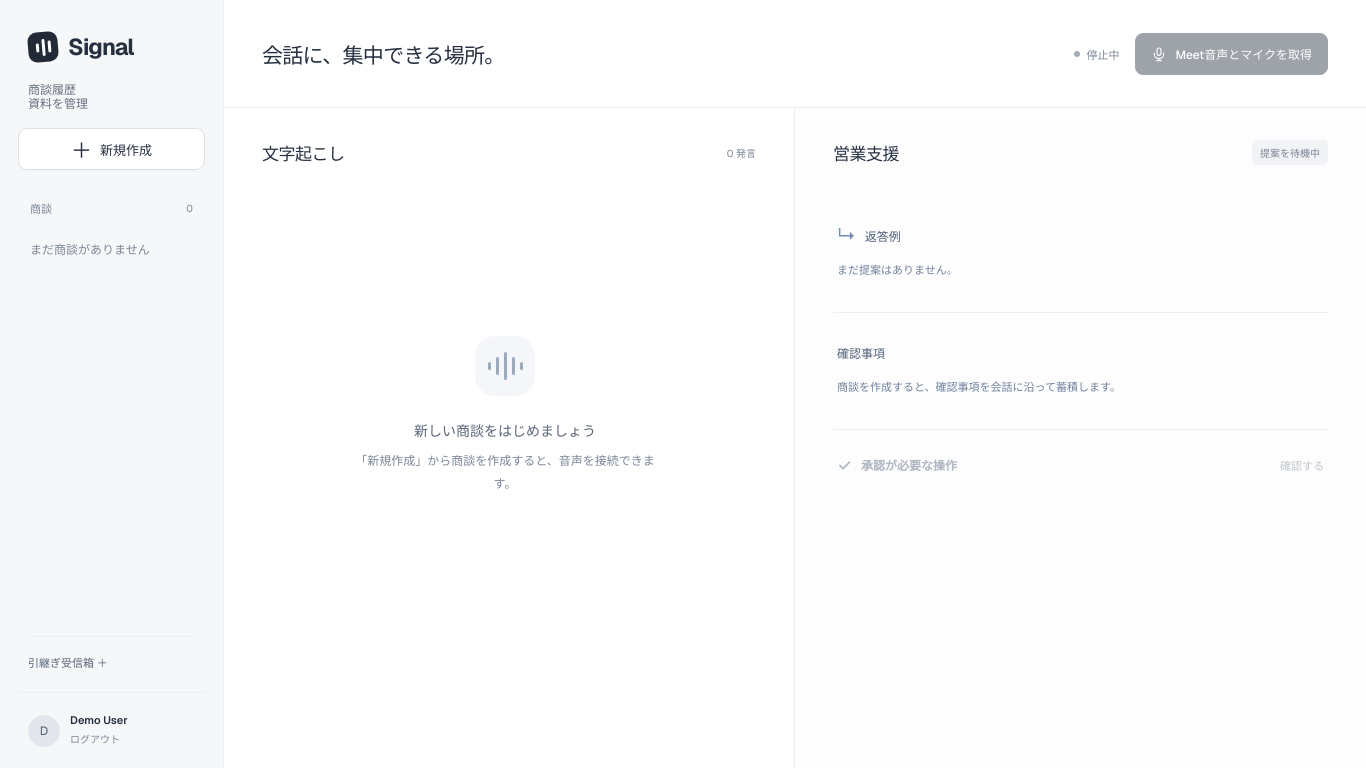
Test: authentication page › creates a conversation with the server-provided organization
Expected: the text "Demo User" is shown, [70,713,128,727]
Click the button "＋ 新規作成": (112, 149) [18,128,205,170]
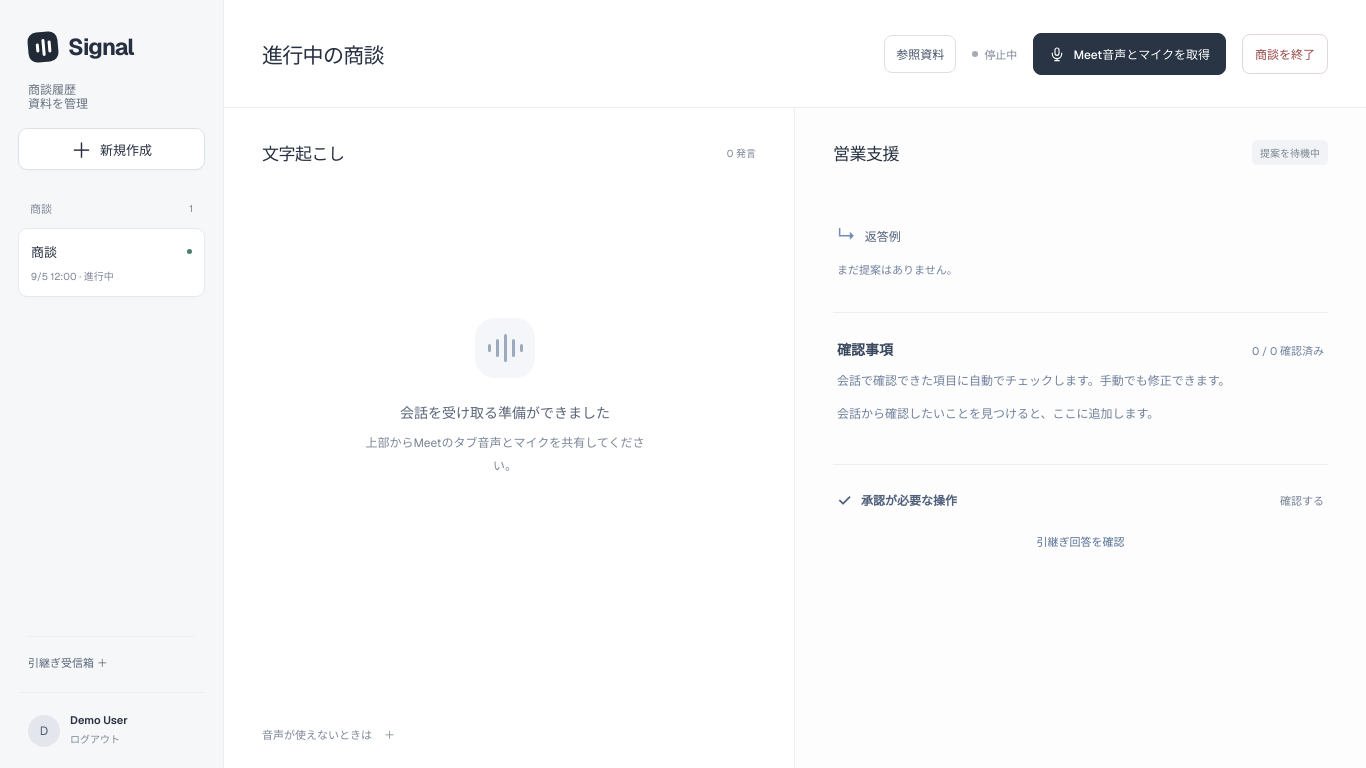
Expected: the heading "会話を受け取る準備ができました" is shown, [400,402,610,422]
